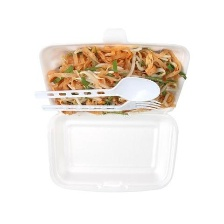foam_box: (29, 22, 194, 199)
